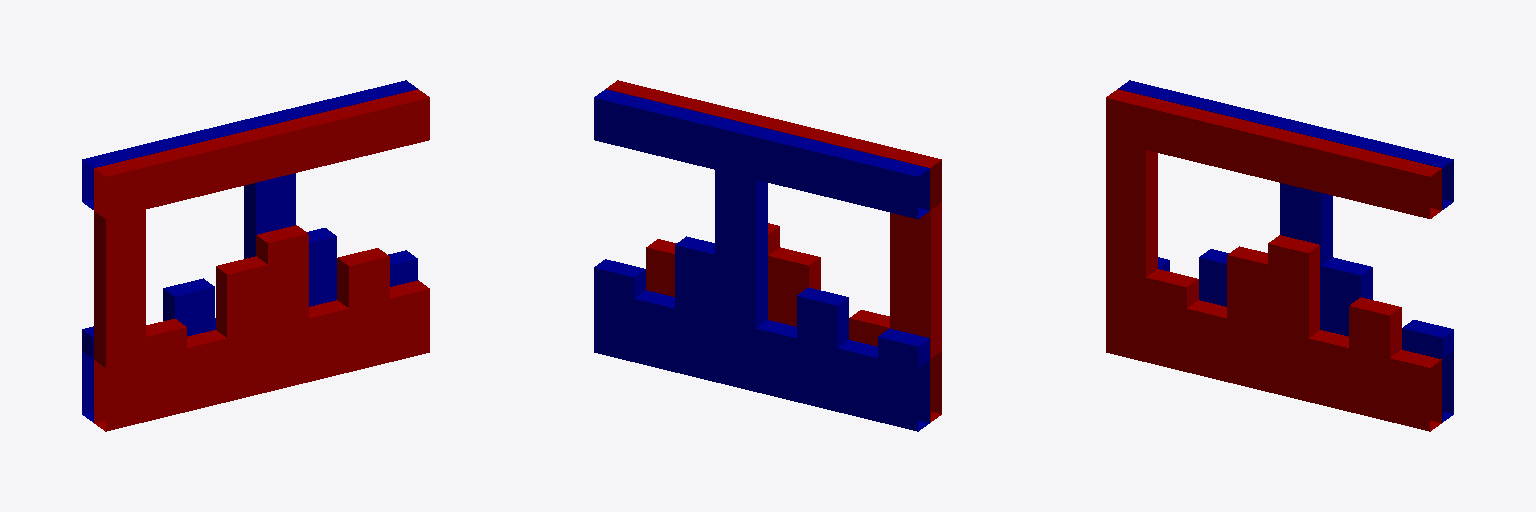
Rendered from Casey2NoMat.obj.
3 renders of one model, left to right at view 1: azimuth 30°, elevation 25°; view 2: azimuth 150°, elevation 25°; view 3: azimuth 330°, elevation 25°, orthographic.
Parts seen in each view (by area): view 1: Plane, Plane.001_Plane.002; view 2: Plane.001_Plane.002, Plane; view 3: Plane, Plane.001_Plane.002.
Part boxes in pixels (left/top/right/bottom): Plane: left=94, top=89, right=429, bottom=431; Plane.001_Plane.002: left=82, top=80, right=417, bottom=422; Plane.001_Plane.002: left=594, top=89, right=929, bottom=431; Plane: left=606, top=80, right=941, bottom=422; Plane: left=1106, top=89, right=1441, bottom=431; Plane.001_Plane.002: left=1118, top=80, right=1453, bottom=422.
Bounding box in the file's own units: 16 × 12 × 2.04.